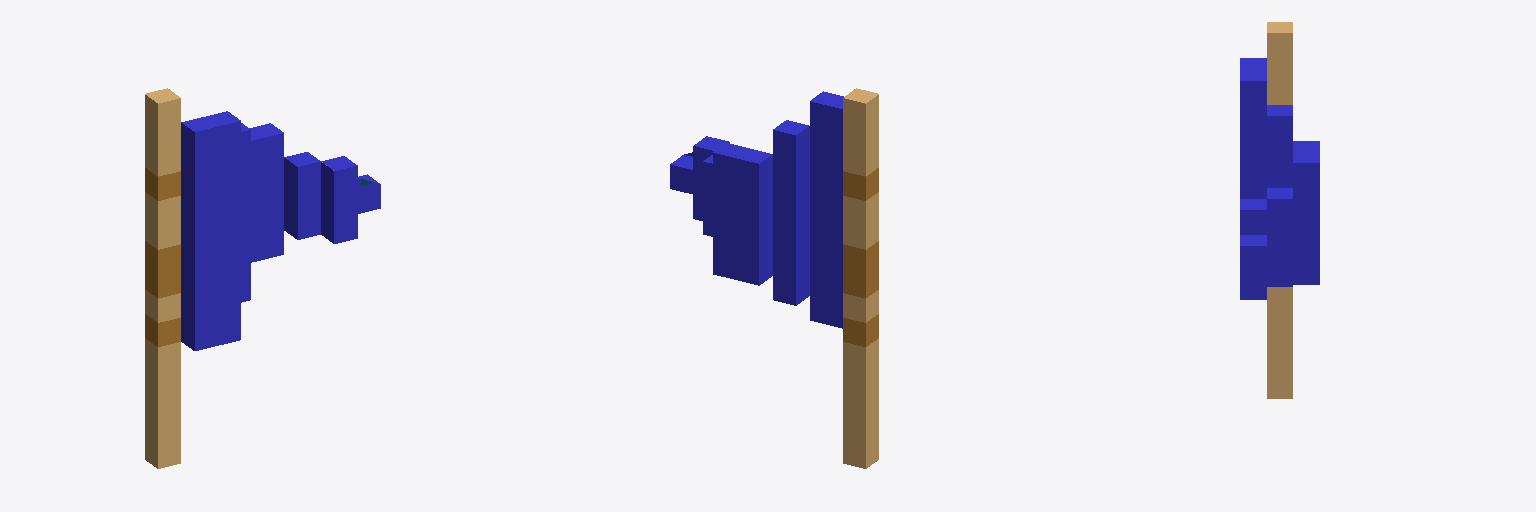
3 renders of one model, left to right at view 1: azimuth 30°, elevation 25°; view 2: azimuth 150°, elevation 25°; view 3: azimuth 270°, elevation 25°, orthographic.
Parts seen in each view (by area): view 1: Flag_Small_Blue_Medieval_Assets-34.001; view 2: Flag_Small_Blue_Medieval_Assets-34.001; view 3: Flag_Small_Blue_Medieval_Assets-34.001.
Part boxes in pixels (left/top/right/bottom): Flag_Small_Blue_Medieval_Assets-34.001: left=145, top=88, right=380, bottom=468; Flag_Small_Blue_Medieval_Assets-34.001: left=670, top=88, right=878, bottom=468; Flag_Small_Blue_Medieval_Assets-34.001: left=1240, top=22, right=1319, bottom=398.
Bounding box in the file's own units: 0.9 × 1.5 × 0.3.
1 materials, 1 textured.